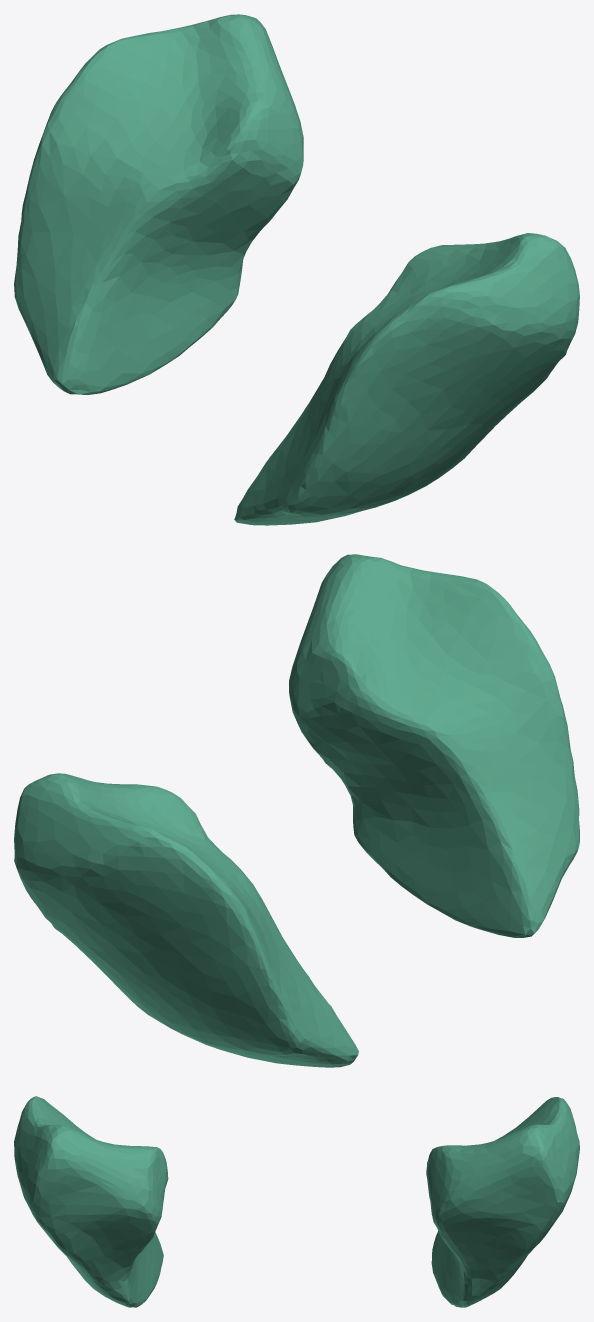
3 renders of one model, top to bottom at view 1: azimuth 30°, elevation 25°; view 2: azimuth 150°, elevation 25°; view 3: azimuth 270°, elevation 25°, orthographic. The views are drawn at different scales.
Visible parts, largest first — view 1: 723.obj; view 2: 723.obj; view 3: 723.obj.
Part boxes in pixels (x1,y1,x2,y2): 723.obj: (14, 14, 579, 525); 723.obj: (14, 554, 579, 1067); 723.obj: (14, 1096, 579, 1307).
Size of the model in its own units: 1855 by 1845 by 4217.
